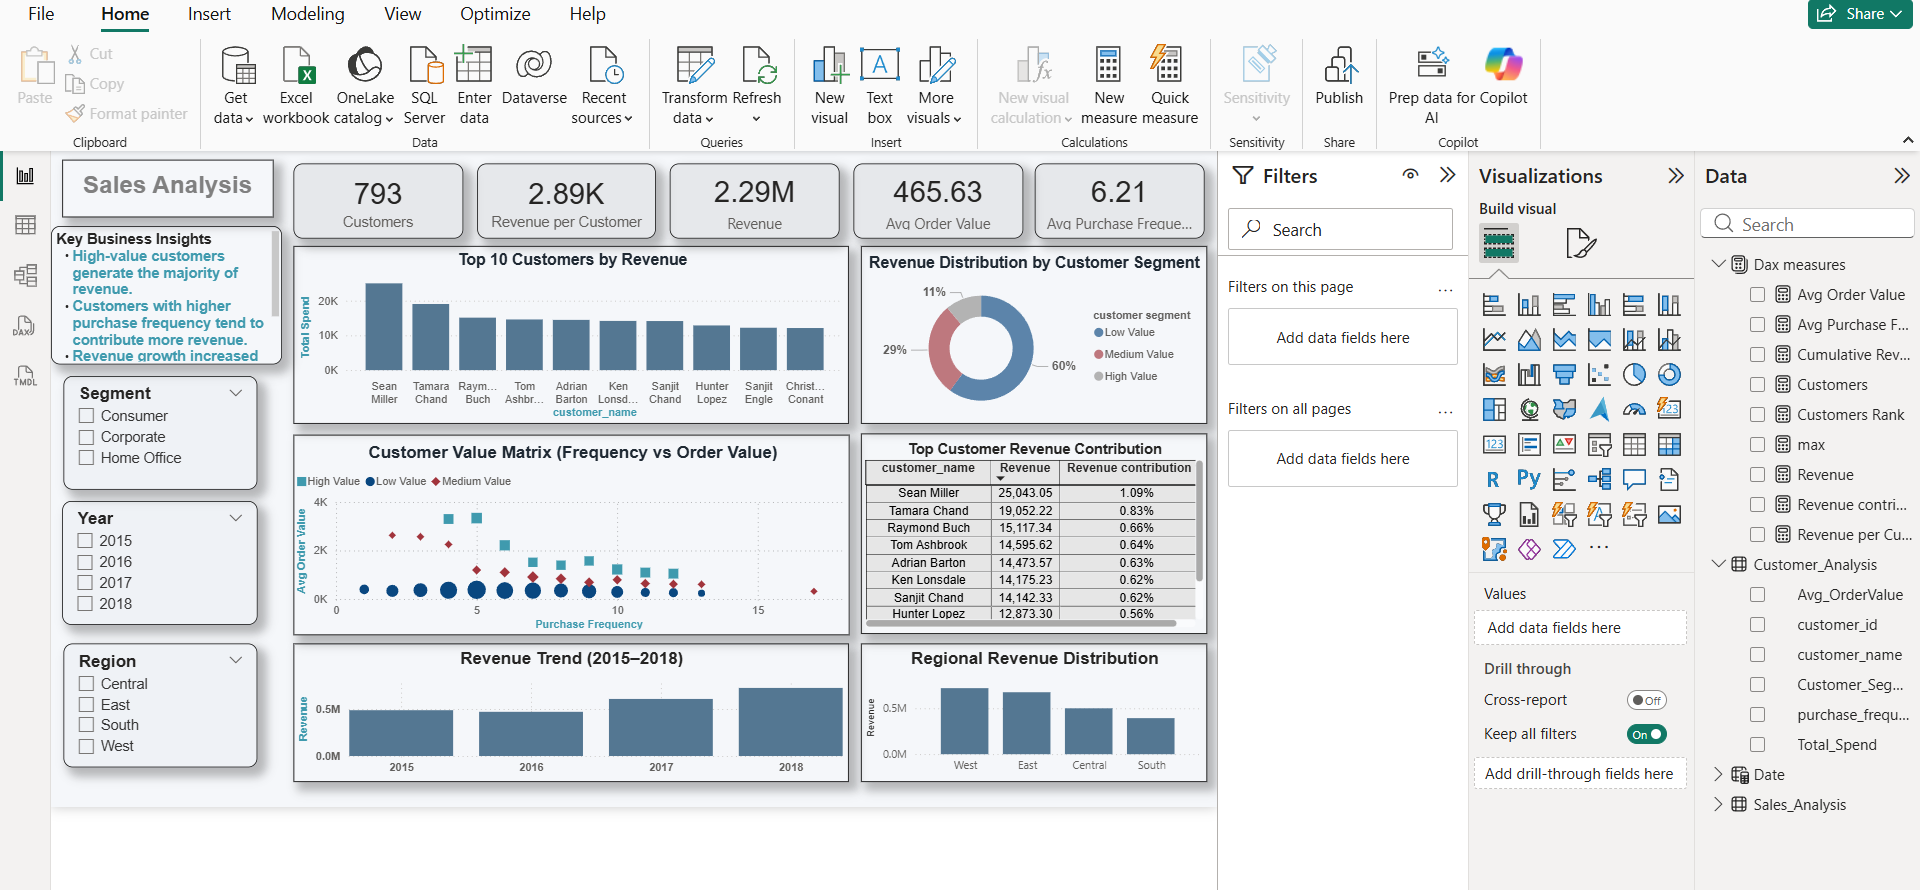

This screenshot's page, from the dashboard's own definition file:
{"tool":"powerbi","page":{"name":"Page 1","canvas":[1280,720],"ordinal":0},"visuals":[{"type":"textbox","box":[12.3,9.6,231.9,63.1],"z":0},{"type":"card","fields":{"Values":["Dax measures.Total Revenue"]},"box":[679.2,13.7,186.6,82.3],"z":1000},{"type":"card","fields":{"Values":["Dax measures.Avg Order Value"]},"box":[880.7,13.7,186,82],"z":2000},{"type":"card","fields":{"Values":["Dax measures.Avg Purchase Frequency"]},"box":[1079.4,13.7,186,82],"z":3000},{"type":"slicer","fields":{"Values":["Sales_Analysis.Segment"]},"box":[13.7,247,212.7,124.9],"z":4000},{"type":"slicer","fields":{"Values":["Date.Year"]},"box":[12.3,384.2,214.1,135.8],"z":5000},{"type":"donutChart","title":"Revenue Distribution by Customer Segment","fields":{"Category":["Customer_Analysis.Customer_segmentation.customer_segment"],"Y":["Sum(Customer_Analysis.total_spend)"]},"box":[889.2,104.3,380.1,194.9],"z":6000},{"type":"slicer","fields":{"Values":["sales_analysis sales_dataset.Region"]},"box":[13.7,540.7,212.7,135.8],"z":7000},{"type":"clusteredColumnChart","title":"Top 10 Customers by Revenue","fields":{"Y":["Sum(Customer_Analysis.Total_Spend)"],"Category":["Customer_Analysis.customer_name"]},"box":[266.2,104.3,609.3,194.9],"z":8000},{"type":"clusteredColumnChart","title":"Revenue Trend (2015–2018)","fields":{"Category":["Date.Date.Variation.Date Hierarchy.Year"],"Y":["Dax measures.Total Revenue"]},"box":[266.2,540.7,609.3,152.3],"z":9000},{"type":"clusteredColumnChart","title":"Regional Revenue Distribution","fields":{"Y":["Dax measures.Total Revenue"],"Category":["Sales_Analysis.Region"]},"box":[889.2,540.7,380.1,152.3],"z":10000},{"type":"scatterChart","title":"Customer Value Matrix (Frequency vs Order Value)","fields":{"Y":["Dax measures.Avg Order Value"],"X":["Customer_Analysis.purchase_frequency"],"Size":["CountNonNull(Customer_Analysis.Total_Spend)"],"Series":["Customer_Analysis.Customer_Segment"]},"box":[266.2,311.5,610,220],"z":11000},{"type":"tableEx","title":"Top Customer Revenue Contribution","fields":{"Values":["Customer_Analysis.customer_name","Dax measures.Revenue","Dax measures.Revenue contribution %"]},"box":[889.2,310.1,380,220],"z":12000},{"type":"card","fields":{"Values":["Dax measures.Total Customers"]},"box":[266.2,13.7,186,82.3],"z":13000},{"type":"card","fields":{"Values":["Dax measures.Revenue per Customer"]},"box":[467.9,13.7,196.2,82.3],"z":14000},{"type":"textbox","box":[0,82.3,253.9,152.3],"z":15000}]}

Visuals, with their boxes on the page's 1280x720 design canvas (x1, y1, x2, y2). These are canvas units, not pixel positions in the 1920x890 screenshot, which may show the page scaled, cropped or inside an application window:
textbox: pyautogui.locateOnScreen(12, 10, 244, 73)
card - Dax measures.Total Revenue: pyautogui.locateOnScreen(679, 14, 866, 96)
card - Dax measures.Avg Order Value: pyautogui.locateOnScreen(881, 14, 1067, 96)
card - Dax measures.Avg Purchase Frequency: pyautogui.locateOnScreen(1079, 14, 1265, 96)
slicer - Sales_Analysis.Segment: pyautogui.locateOnScreen(14, 247, 226, 372)
slicer - Date.Year: pyautogui.locateOnScreen(12, 384, 226, 520)
"Revenue Distribution by Customer Segment" donutChart: pyautogui.locateOnScreen(889, 104, 1269, 299)
slicer - sales_analysis sales_dataset.Region: pyautogui.locateOnScreen(14, 541, 226, 676)
"Top 10 Customers by Revenue" clusteredColumnChart: pyautogui.locateOnScreen(266, 104, 876, 299)
"Revenue Trend (2015–2018)" clusteredColumnChart: pyautogui.locateOnScreen(266, 541, 876, 693)
"Regional Revenue Distribution" clusteredColumnChart: pyautogui.locateOnScreen(889, 541, 1269, 693)
"Customer Value Matrix (Frequency vs Order Value)" scatterChart: pyautogui.locateOnScreen(266, 312, 876, 532)
"Top Customer Revenue Contribution" tableEx: pyautogui.locateOnScreen(889, 310, 1269, 530)
card - Dax measures.Total Customers: pyautogui.locateOnScreen(266, 14, 452, 96)
card - Dax measures.Revenue per Customer: pyautogui.locateOnScreen(468, 14, 664, 96)
textbox: pyautogui.locateOnScreen(0, 82, 254, 235)
